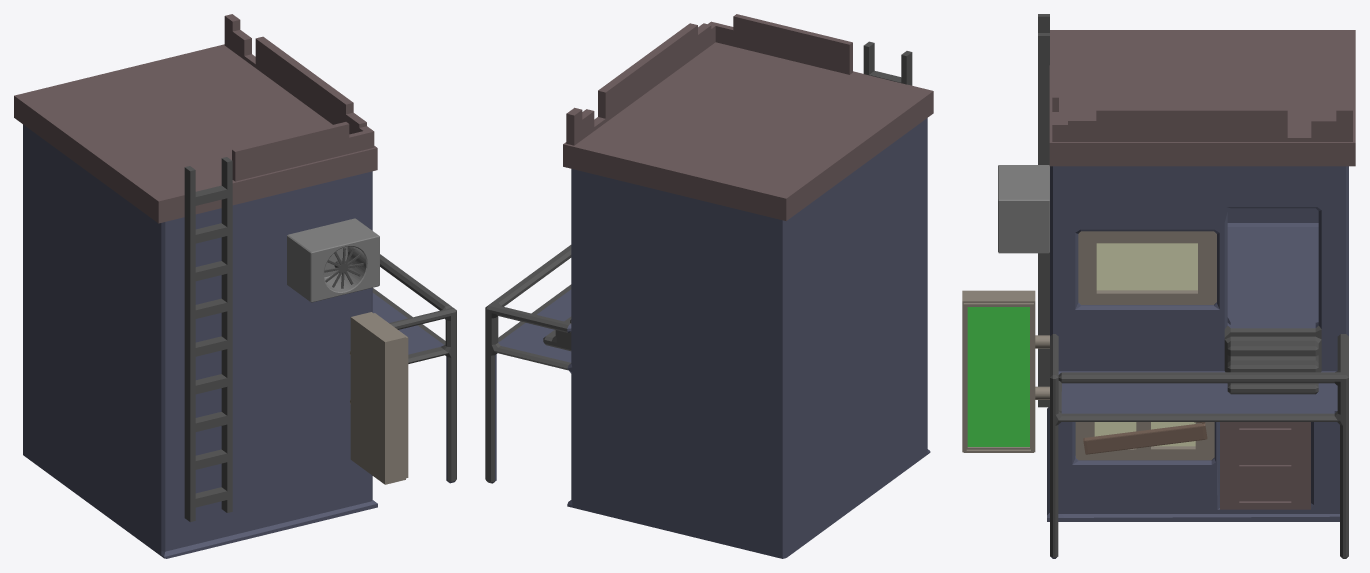
Rendered from House_MPU.fbx.
The picture shows the model from 3 angles, left to right: view 1: azimuth 30°, elevation 25°; view 2: azimuth 150°, elevation 25°; view 3: azimuth 270°, elevation 25°; orthographic projection. The views are drawn at different scales.
Parts seen in each view (by area): view 1: House, Cube, Ladder, Cylinder, Air_cool, Aircool_fan; view 2: House, Cube, Ladder; view 3: House, Cube, Cylinder, Lower_door, Upper_window, Upper_glass, Air_cool, Ladder, Lower_window, Wood, Lower_glass.
Boxes of the visible parts, box(x1,y1,x2,y2) form: House: box(23, 124, 456, 558); Cube: box(14, 14, 377, 223); Ladder: box(184, 157, 232, 521); Cylinder: box(350, 312, 408, 484); Air_cool: box(287, 218, 379, 302); Aircool_fan: box(324, 247, 363, 288); House: box(485, 118, 930, 558); Cube: box(563, 14, 933, 220); Ladder: box(863, 41, 912, 85); House: box(1047, 166, 1348, 558); Cube: box(1049, 30, 1355, 166); Cylinder: box(962, 290, 1049, 452); Lower_door: box(1220, 422, 1310, 509); Upper_window: box(1078, 231, 1216, 304); Upper_glass: box(1096, 243, 1197, 290); Air_cool: box(998, 165, 1049, 253); Ladder: box(1038, 14, 1049, 407); Lower_window: box(1076, 422, 1214, 460); Wood: box(1083, 422, 1207, 454); Lower_glass: box(1094, 422, 1195, 446).
Bounding box in the file's own units: 14.13 × 17.46 × 15.16.
